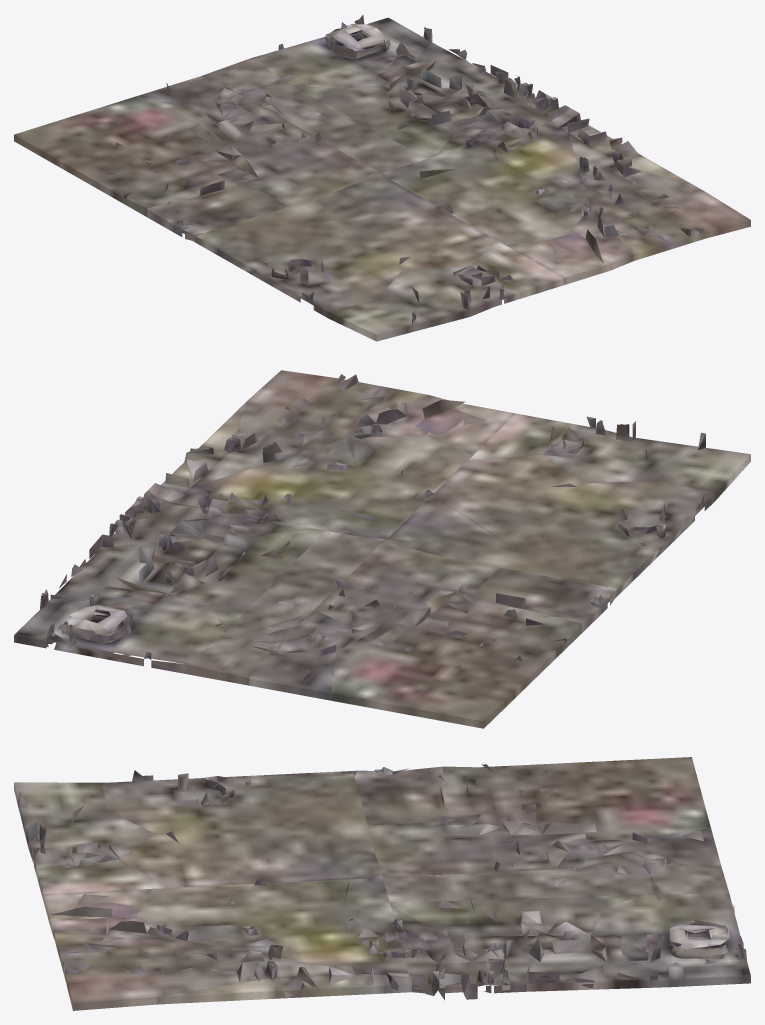
3 renders of one model, top to bottom at view 1: azimuth 30°, elevation 25°; view 2: azimuth 150°, elevation 25°; view 3: azimuth 270°, elevation 25°, orthographic. The views are drawn at different scales.
Parts seen in each view (by area): view 1: Mesh_0; view 2: Mesh_0; view 3: Mesh_0.
Part boxes in pixels (<box>): Mesh_0: <box>14,15,750,341</box>; Mesh_0: <box>14,370,750,728</box>; Mesh_0: <box>14,757,750,1010</box>.
Bounding box in the file's own units: 2129 × 129 × 2636.
Materials: 1 (1 with a texture image).
